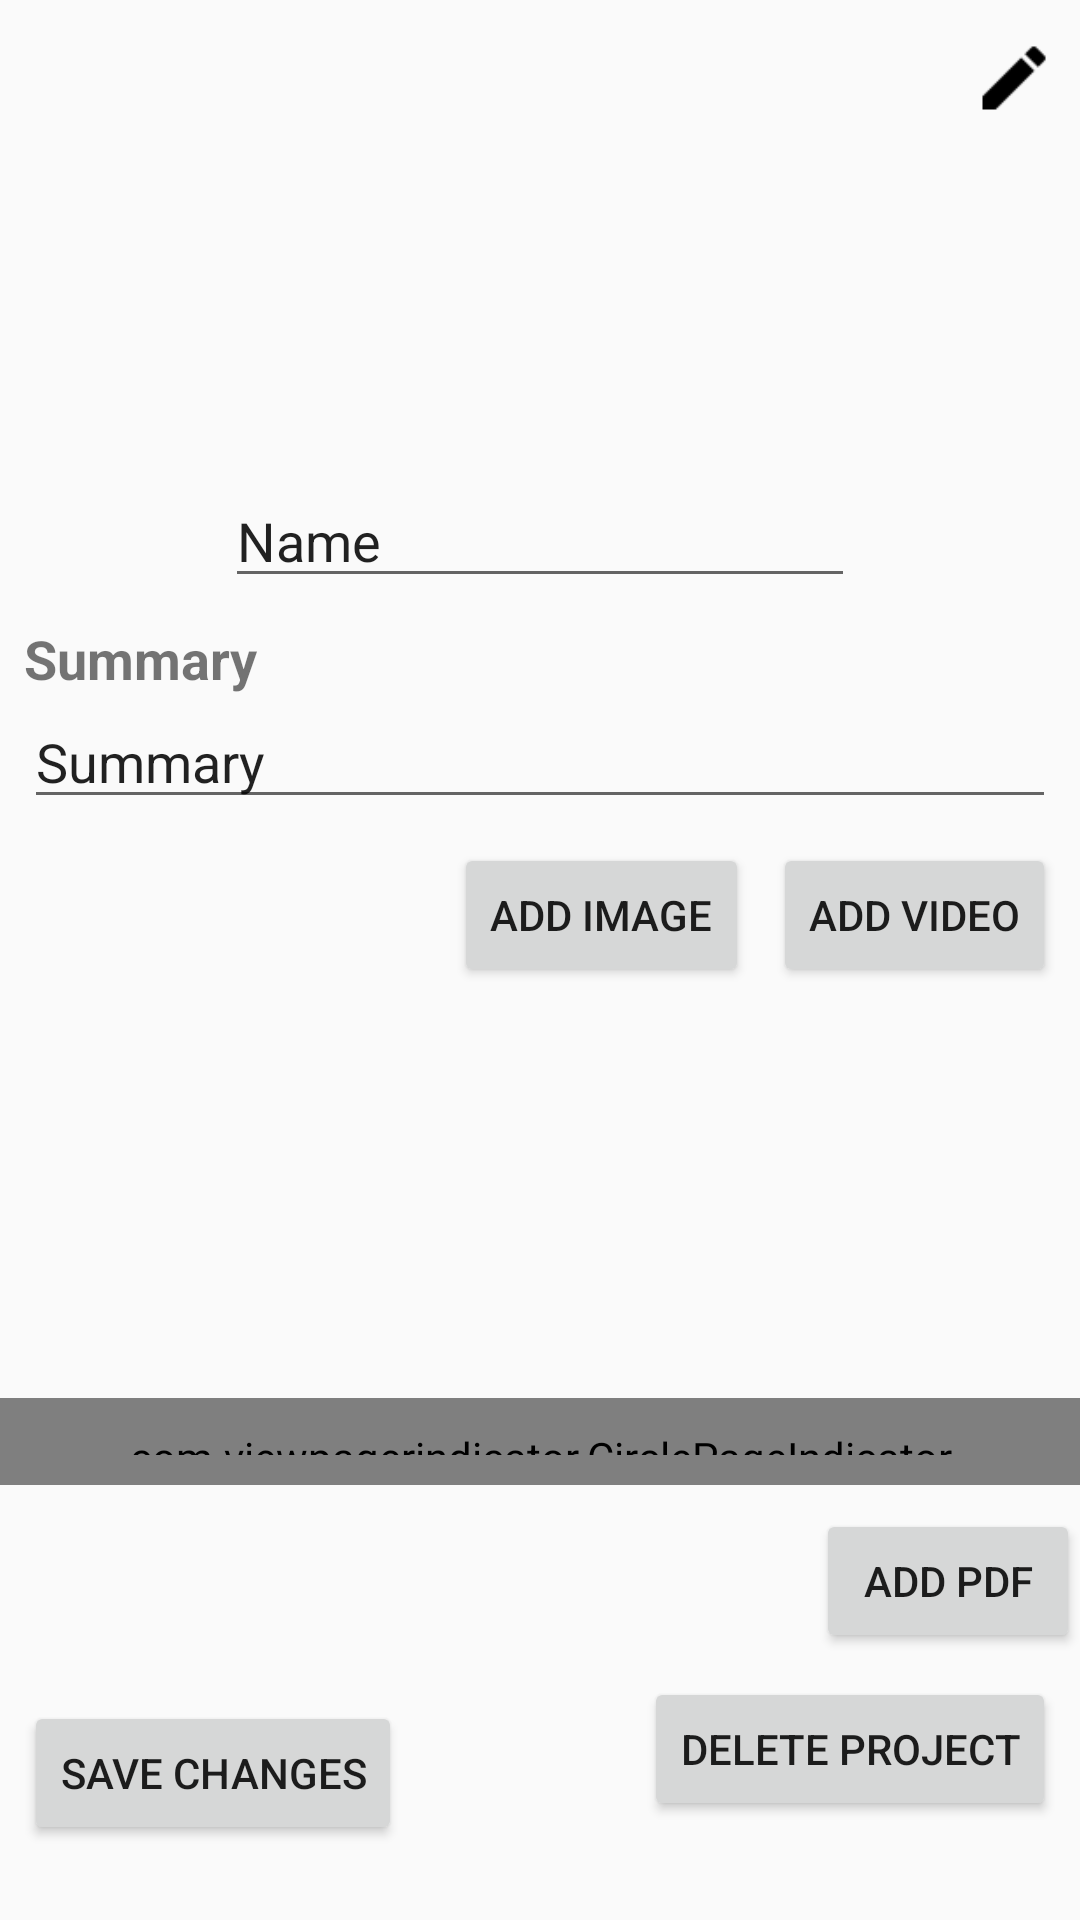

Locate icon controls on the screen. Image size 1080x1920, boxes as (x1, y1, x2, y2).
edit: (982, 46, 1046, 110)
